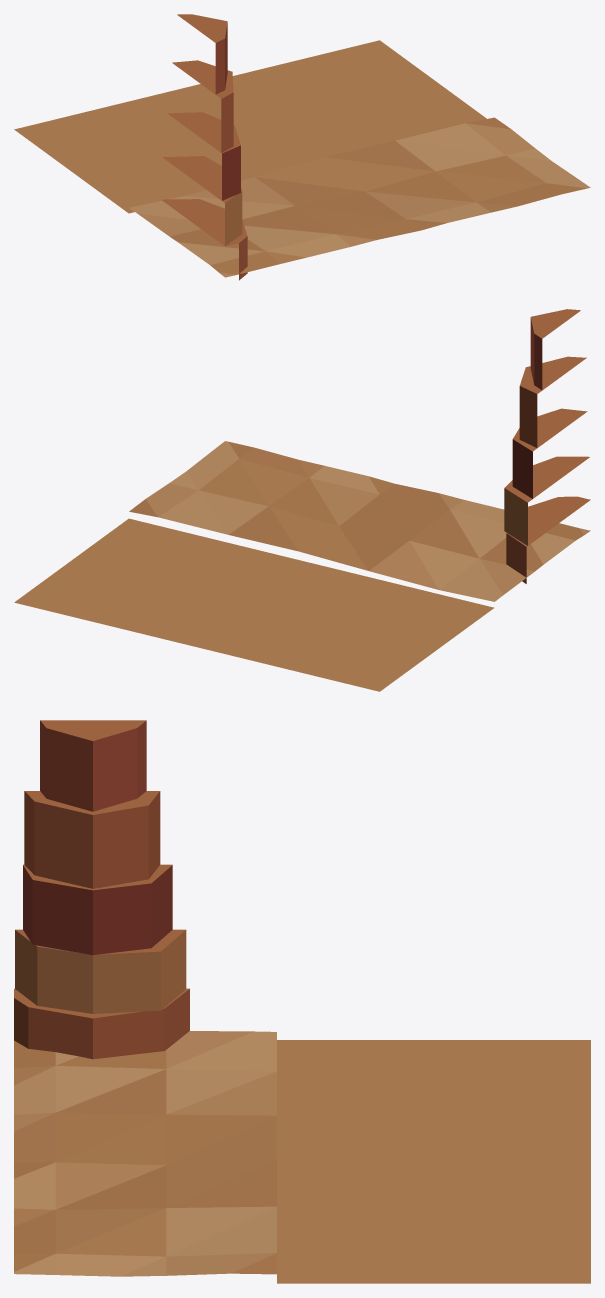
3 views of the same model, one above another, from view 1: azimuth 30°, elevation 25°; view 2: azimuth 150°, elevation 25°; view 3: azimuth 270°, elevation 25° (orthographic). The views are drawn at different scales.
Visible parts, largest first — view 1: baked; view 2: baked; view 3: baked.
Boxes of the visible parts, x1=… form: baked: x1=14, y1=14, x2=590, y2=280; baked: x1=14, y1=309, x2=590, y2=691; baked: x1=14, y1=720, x2=590, y2=1283.
Size of the model in its own units: 62.5 by 38.2 by 62.5.
